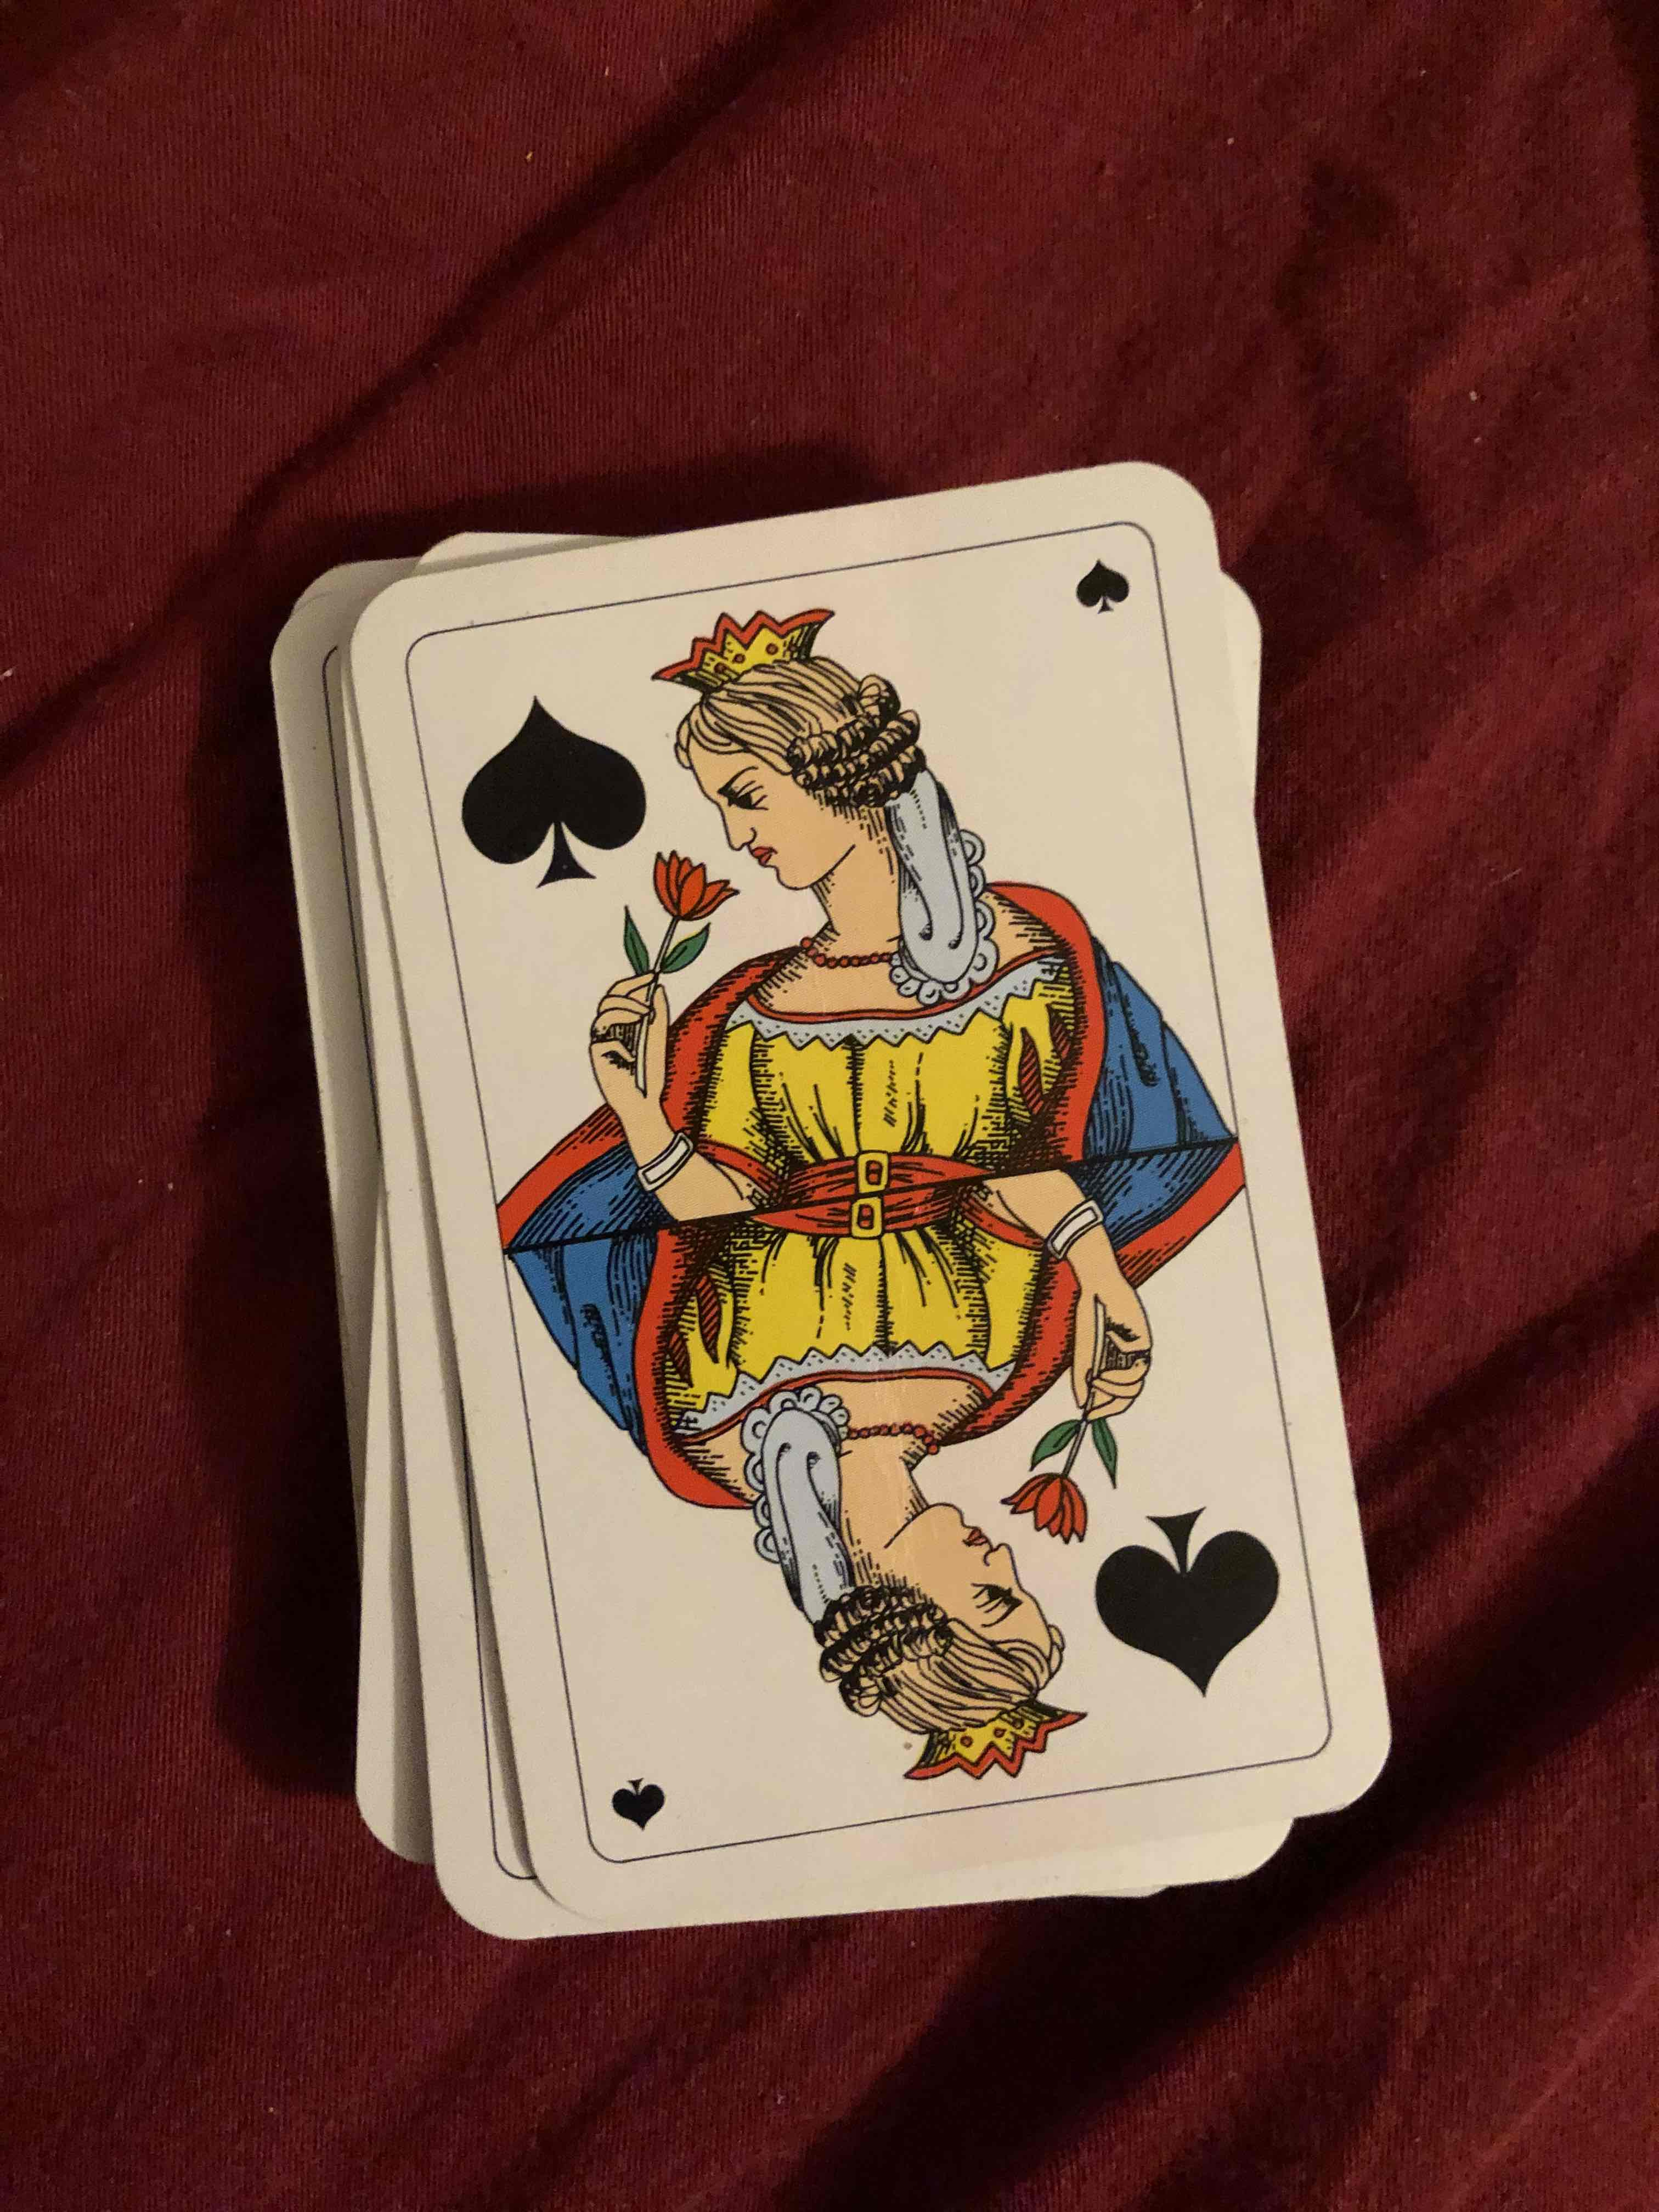spadesQueen: (361, 564, 1363, 1851)
